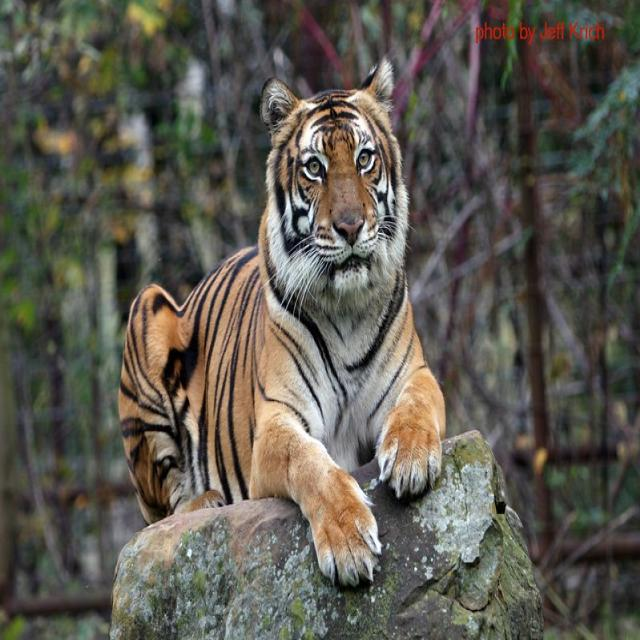Tiger: (113, 49, 449, 603)
